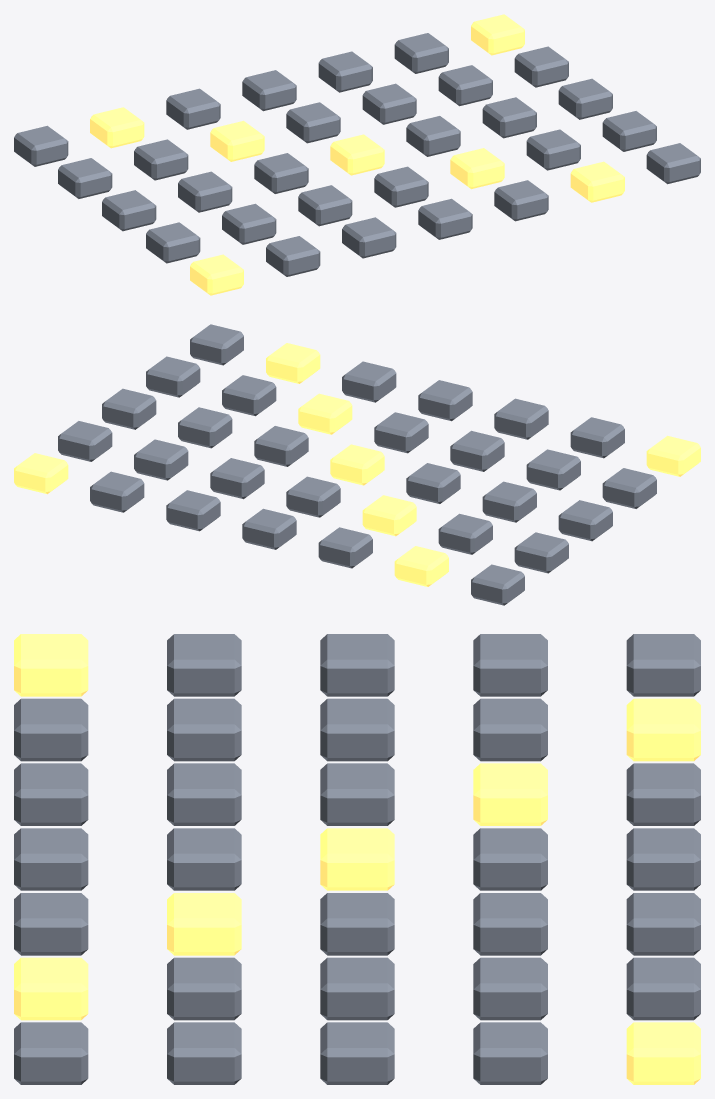
The model's file is cracked_wall_large.glb.
3 views of the same model, one above another, from view 1: azimuth 30°, elevation 25°; view 2: azimuth 150°, elevation 25°; view 3: azimuth 270°, elevation 25° (orthographic). The views are drawn at different scales.
Parts seen in each view (by area): view 1: cracked_wall_large; view 2: cracked_wall_large; view 3: cracked_wall_large.
Part boxes in pixels (x1,y1,x2,y2): cracked_wall_large: (14, 14, 700, 295); cracked_wall_large: (14, 324, 700, 605); cracked_wall_large: (14, 634, 700, 1084).
Size of the model in its own units: 4.28 by 0.176 by 2.96.
